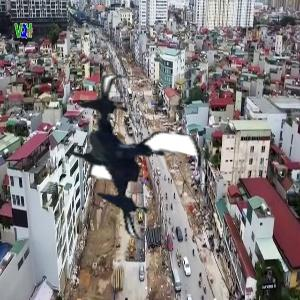drone: (49, 76, 210, 237)
